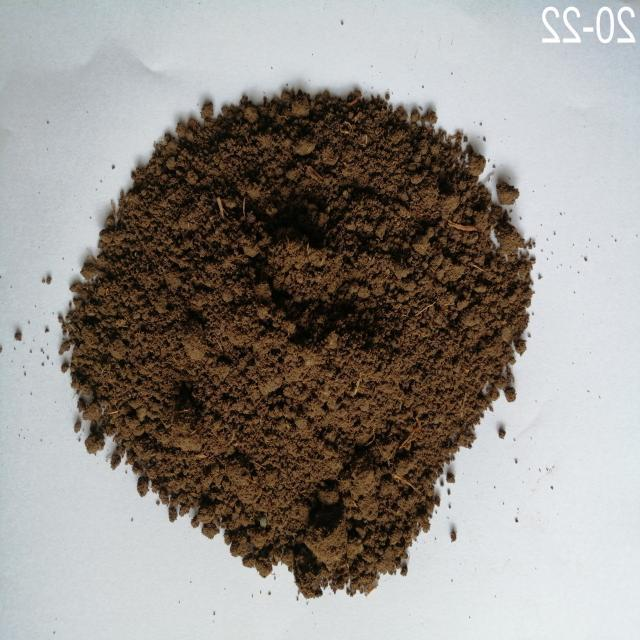soil: (150, 152, 466, 505)
